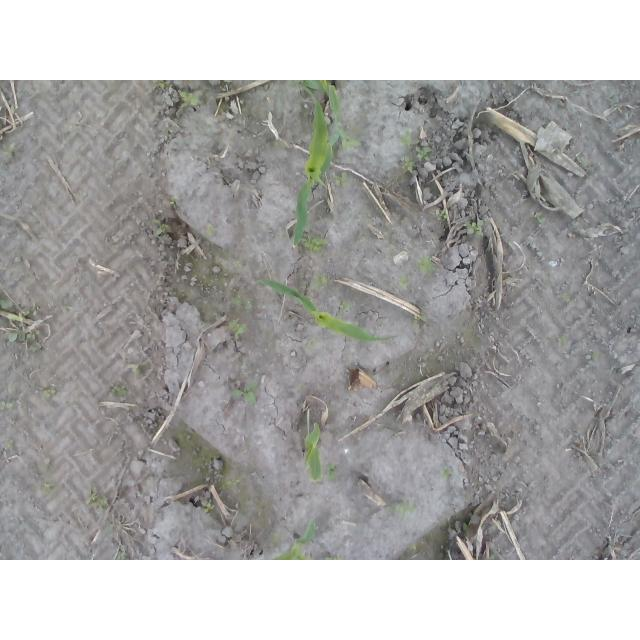Maize: (293, 80, 364, 249), (258, 277, 398, 344), (271, 517, 317, 560), (300, 420, 325, 483)
Weeds: (0, 297, 40, 323), (228, 379, 256, 407), (384, 497, 417, 520), (7, 331, 42, 351), (229, 293, 257, 314), (303, 234, 329, 254), (213, 471, 240, 489), (309, 270, 331, 291), (85, 490, 108, 510), (415, 255, 438, 274), (227, 320, 251, 337), (151, 219, 169, 238), (465, 219, 484, 237), (111, 384, 130, 401), (180, 90, 199, 107), (415, 144, 433, 160), (401, 156, 418, 172), (399, 128, 414, 146), (333, 171, 351, 185), (529, 211, 544, 226), (1, 143, 16, 158), (205, 222, 219, 238), (201, 499, 216, 513), (153, 80, 175, 89), (435, 208, 449, 222), (440, 465, 453, 480), (42, 386, 58, 398), (326, 464, 337, 481), (118, 544, 129, 561), (305, 338, 319, 351), (41, 481, 55, 494), (399, 272, 410, 288), (0, 401, 16, 412), (167, 197, 178, 209), (340, 303, 353, 313), (561, 291, 571, 303), (324, 556, 344, 561), (407, 544, 417, 554), (415, 314, 427, 322), (560, 335, 568, 346), (232, 260, 241, 269), (462, 523, 471, 530)
